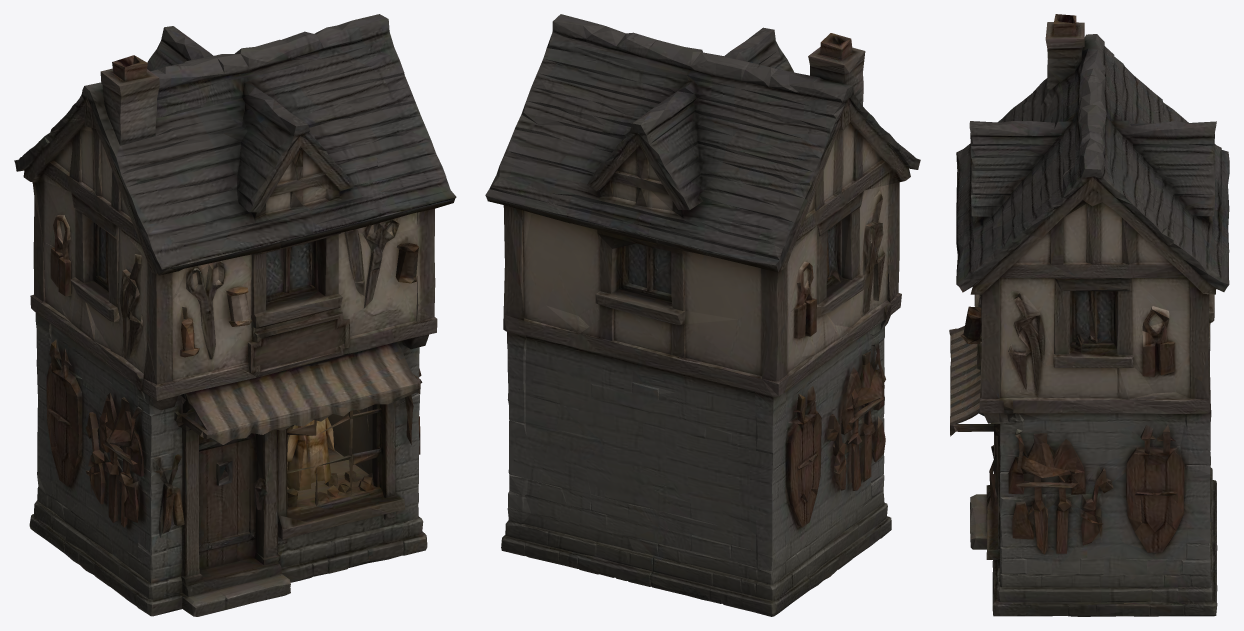
File: bld_ws_tailor_a_LOD0.glb
3 renders of one model, left to right at view 1: azimuth 30°, elevation 25°; view 2: azimuth 150°, elevation 25°; view 3: azimuth 270°, elevation 25°, orthographic. The views are drawn at different scales.
Parts seen in each view (by area): view 1: tripo_mesh_f935356c-834c-4be1-bb83-5e79fd1ae04a; view 2: tripo_mesh_f935356c-834c-4be1-bb83-5e79fd1ae04a; view 3: tripo_mesh_f935356c-834c-4be1-bb83-5e79fd1ae04a.
Part boxes in pixels (bbox=[...]): tripo_mesh_f935356c-834c-4be1-bb83-5e79fd1ae04a: bbox=[14, 14, 456, 616]; tripo_mesh_f935356c-834c-4be1-bb83-5e79fd1ae04a: bbox=[485, 14, 920, 616]; tripo_mesh_f935356c-834c-4be1-bb83-5e79fd1ae04a: bbox=[949, 14, 1229, 616].
Size of the model in its own units: 3.7 by 6 by 3.16.
Materials: 1 (1 with a texture image).
